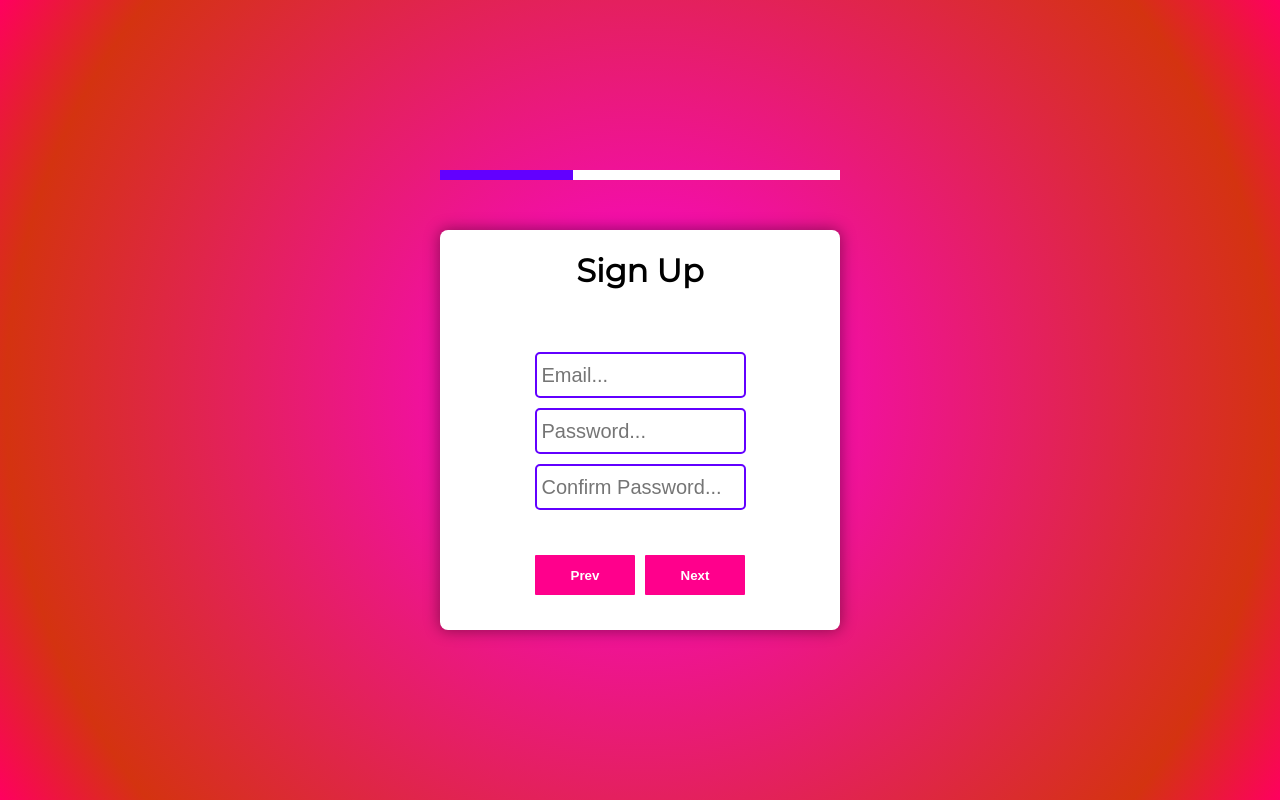
it: wizard › form › enters and retains other information
This screenshot has width=1280, height=800.
Click the button with test id "next-button" at point(695, 576), box 645,556 -> 745,596
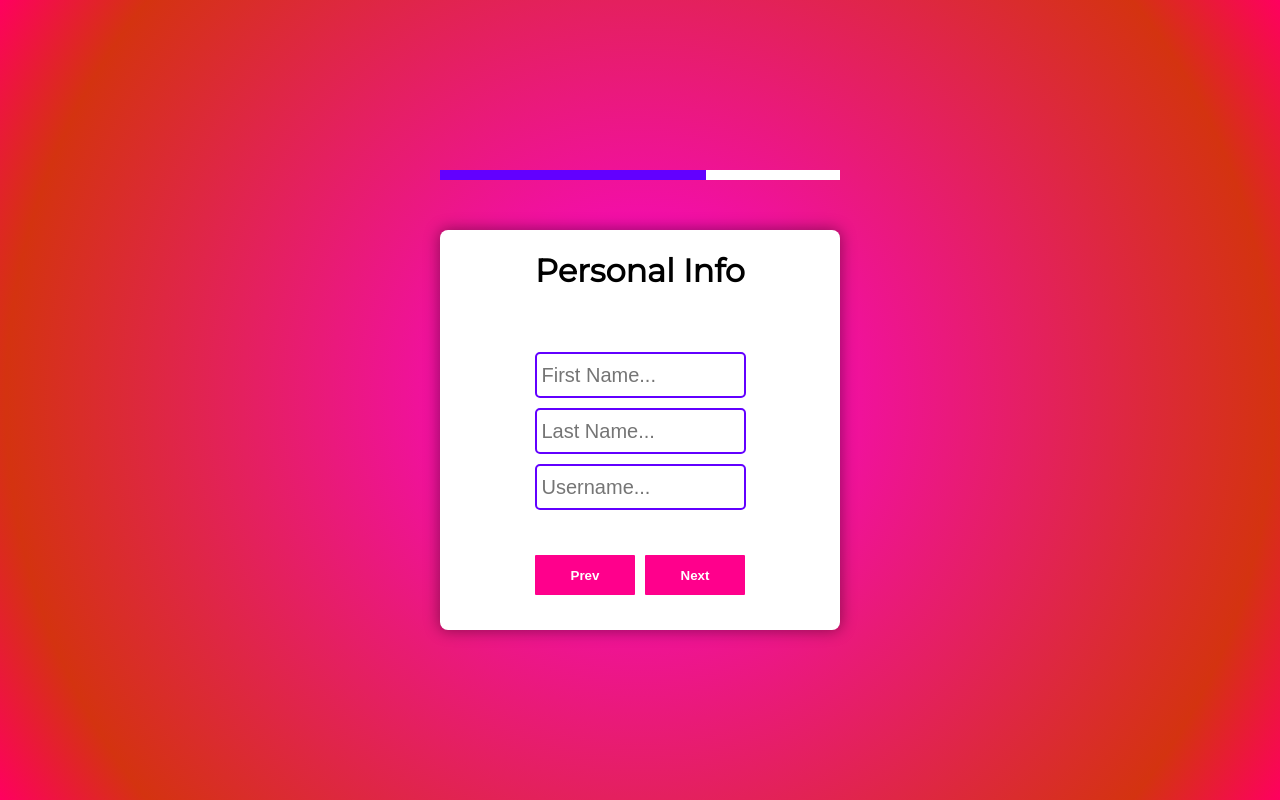
Click the button with test id "next-button" at point(695, 576), box 645,556 -> 745,596
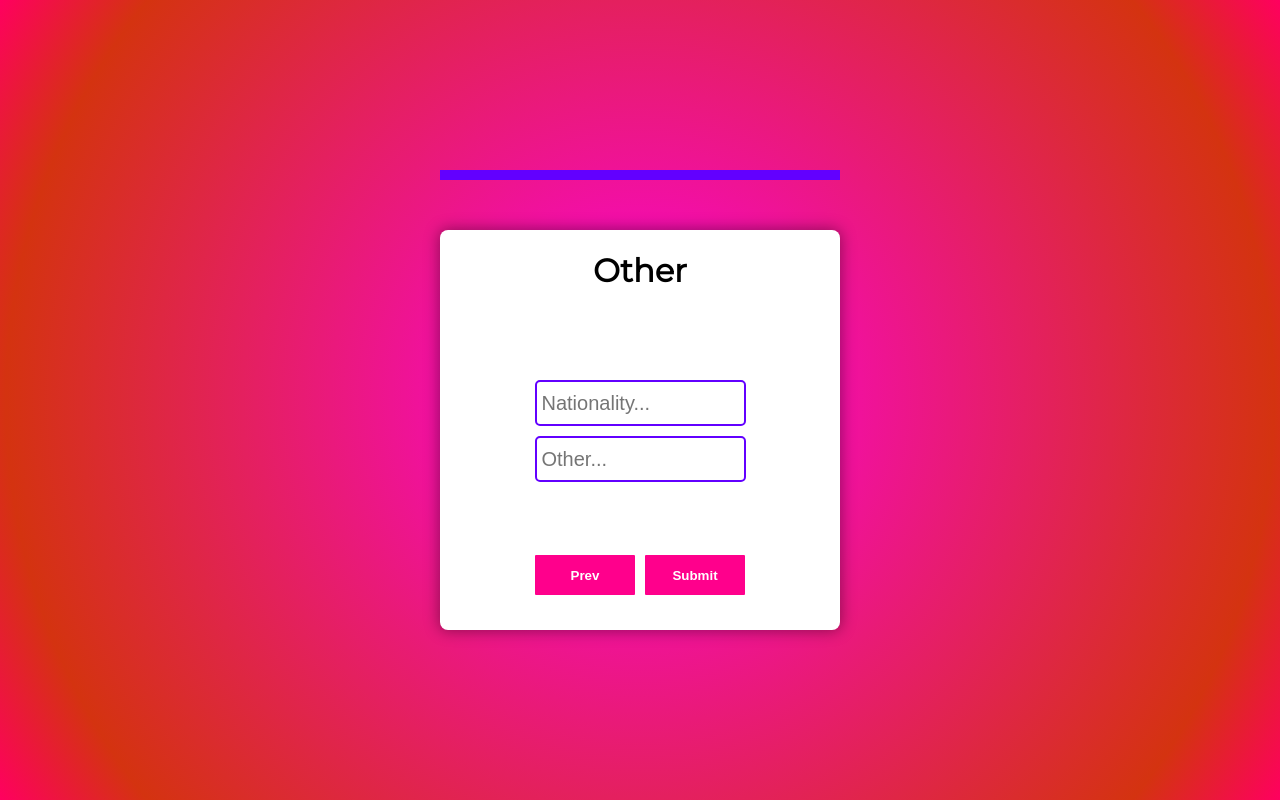
Now the heading "Other" is shown, box 593,251 -> 687,290
Click the field with test id "nationality" at point(641, 403), box 535,380 -> 746,426
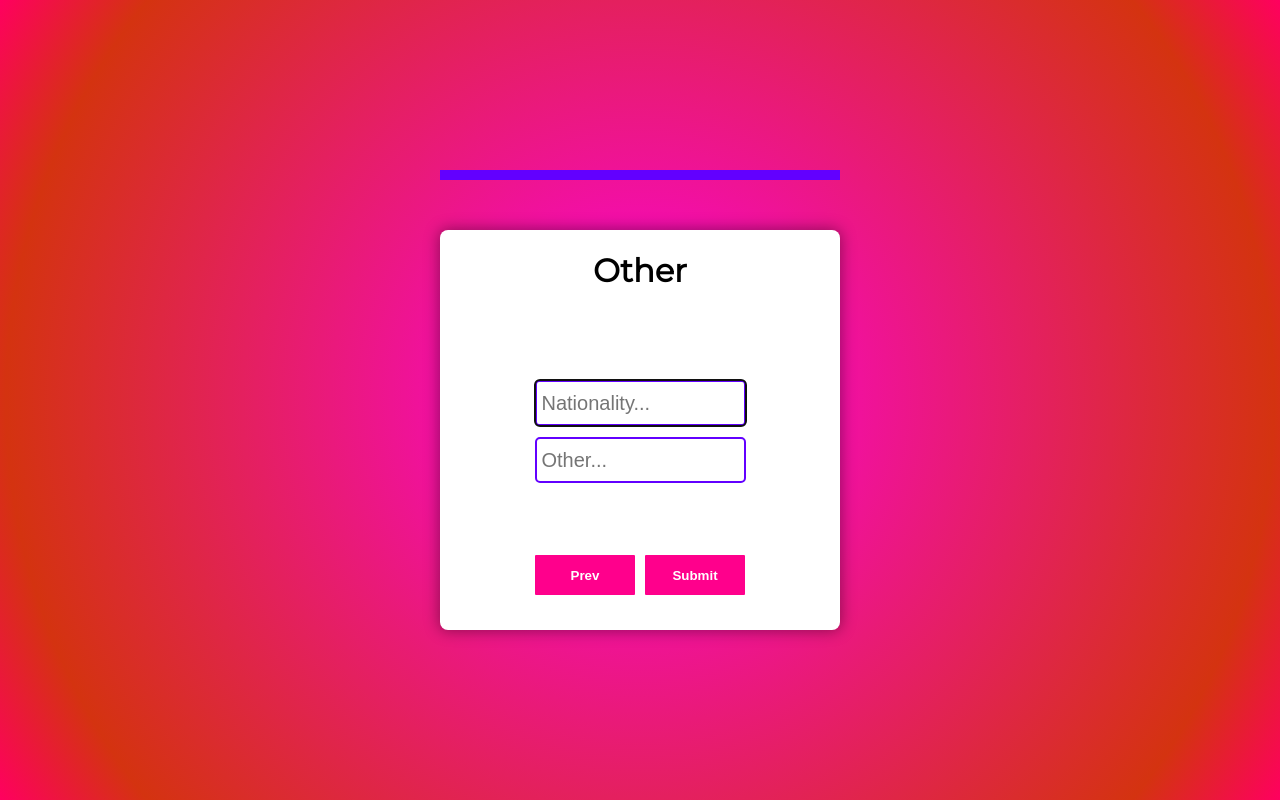
Type "American" into the field with test id "nationality" at point(641, 403), box 534,379 -> 747,427
Click the field with test id "other" at point(641, 460), box 535,437 -> 746,483
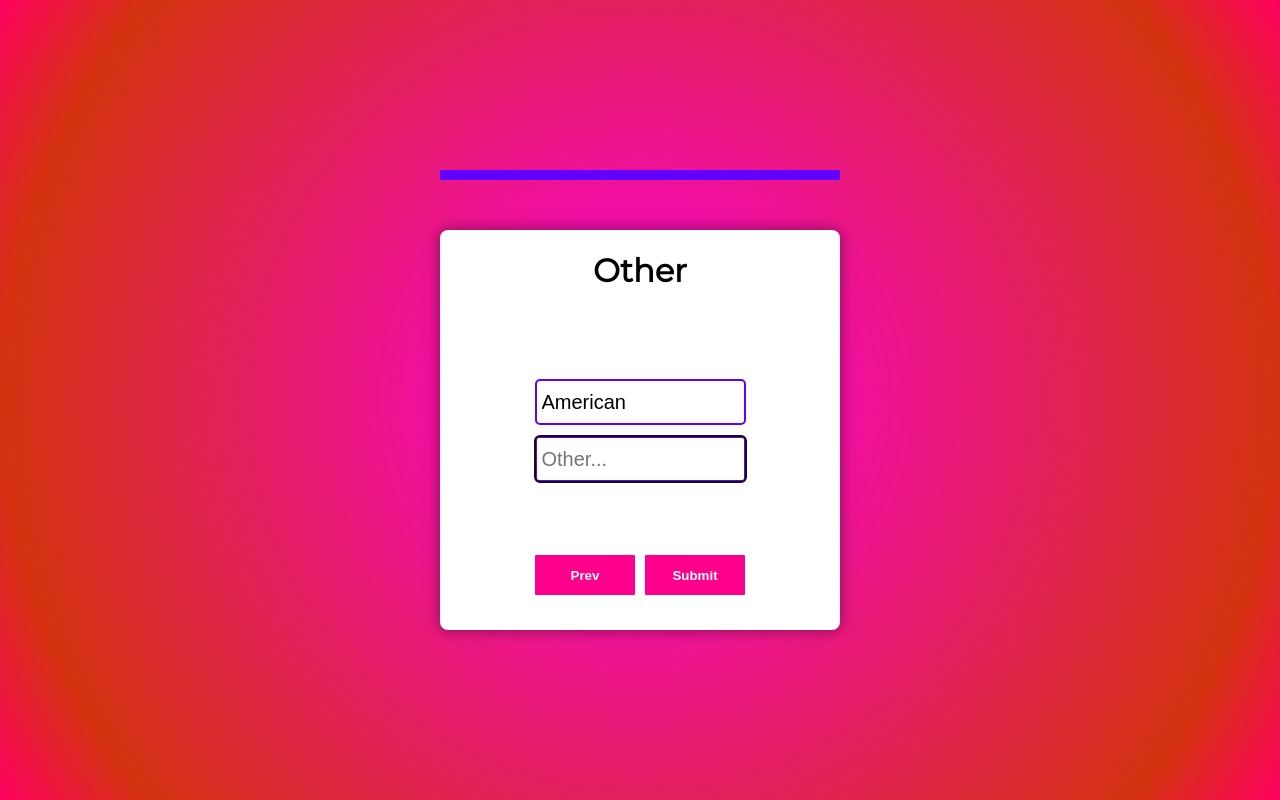
Type "My favorite socks are none" into the field with test id "other" at point(641, 459), box 534,435 -> 747,483
Click the button with test id "prev-button" at point(585, 576), box 535,556 -> 635,596
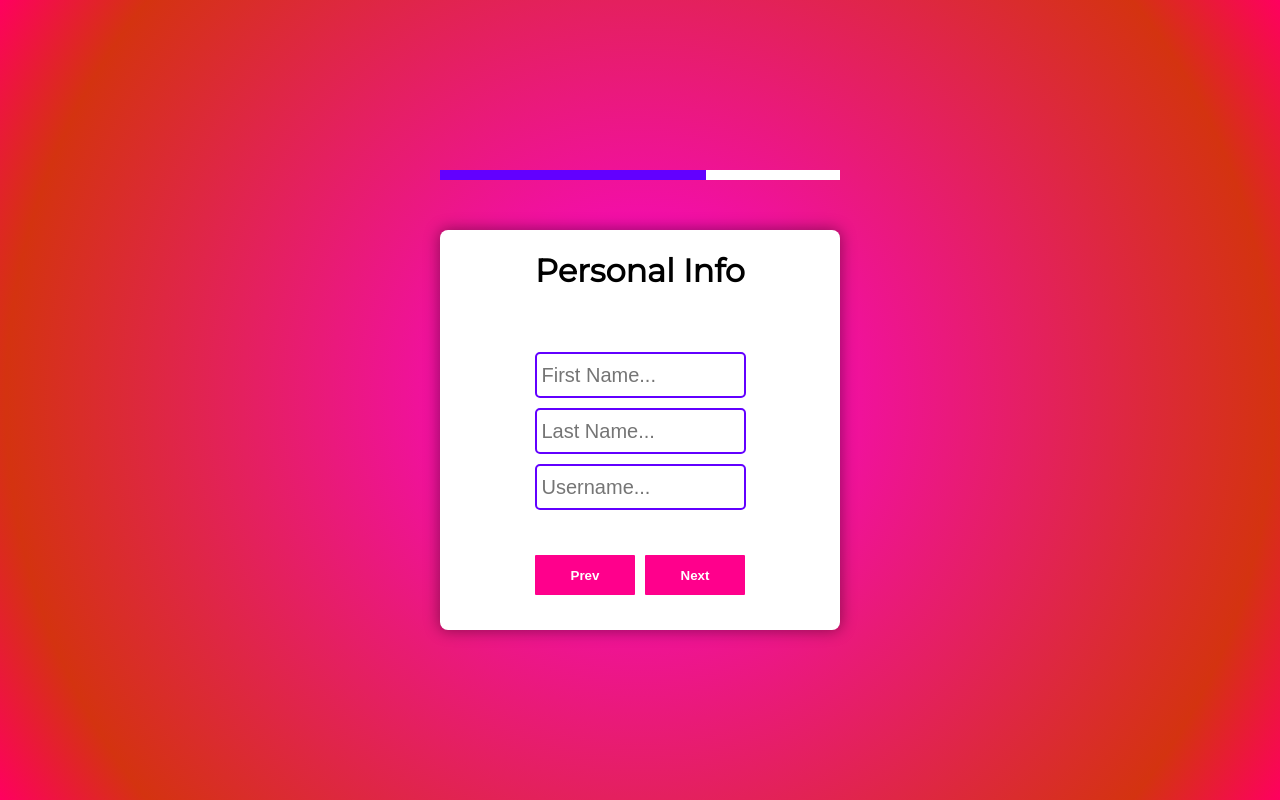
Now the heading "Personal Info" is shown, box 535,251 -> 745,290
Click the button with test id "next-button" at point(695, 576), box 645,556 -> 745,596
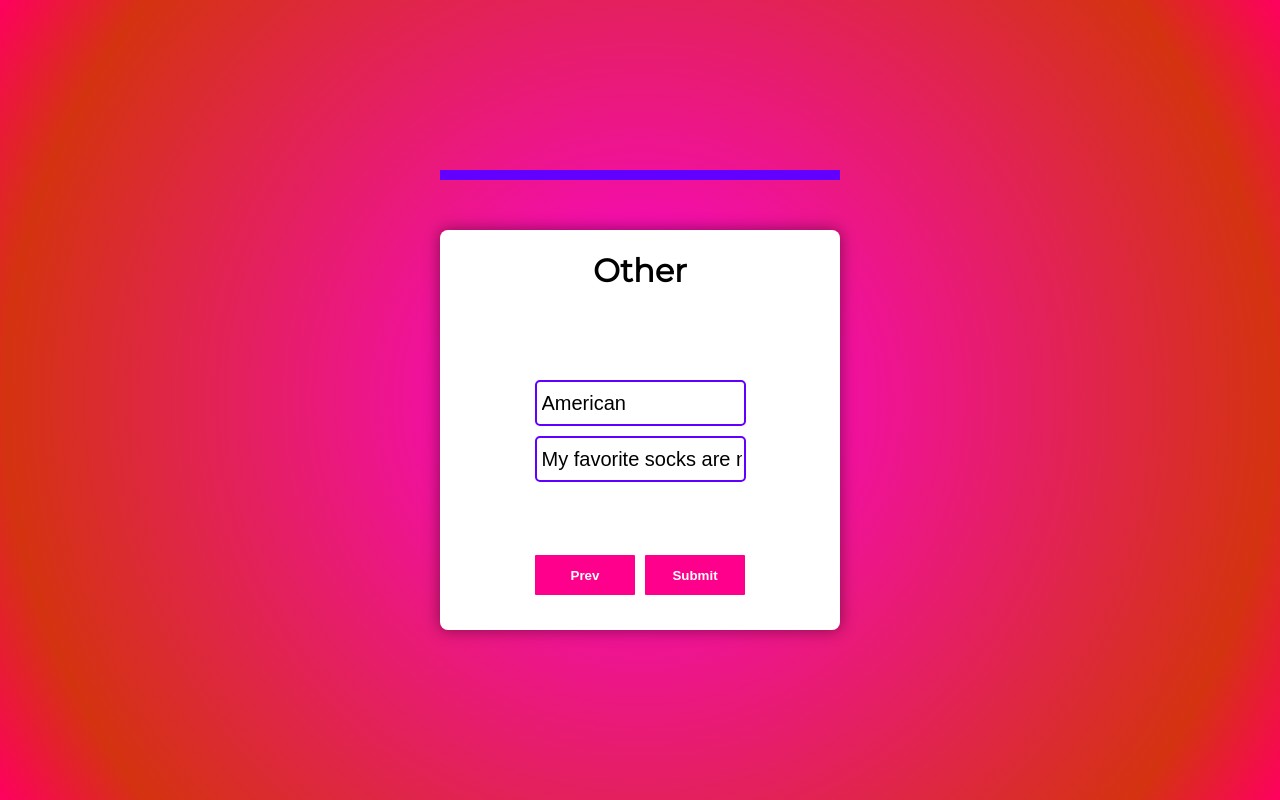
Now the field with test id "nationality" holds "American", box 535,380 -> 746,426
Now the field with test id "other" holds "My favorite socks are none", box 535,436 -> 746,482
